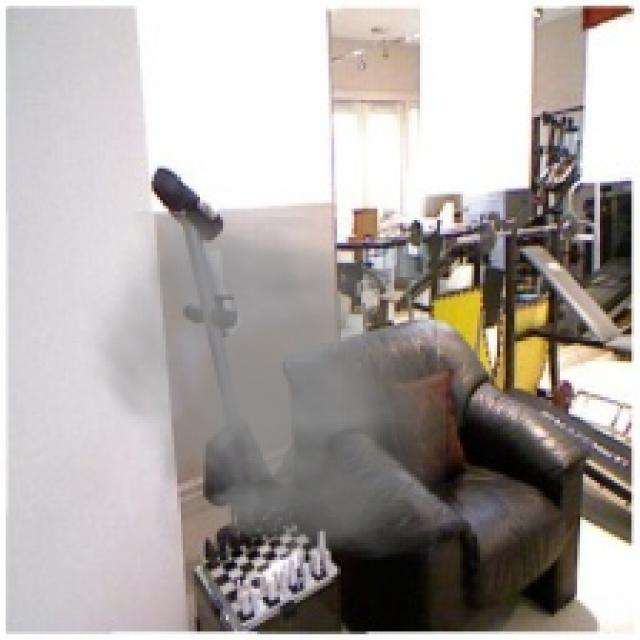smoke: (77, 211, 446, 560)
